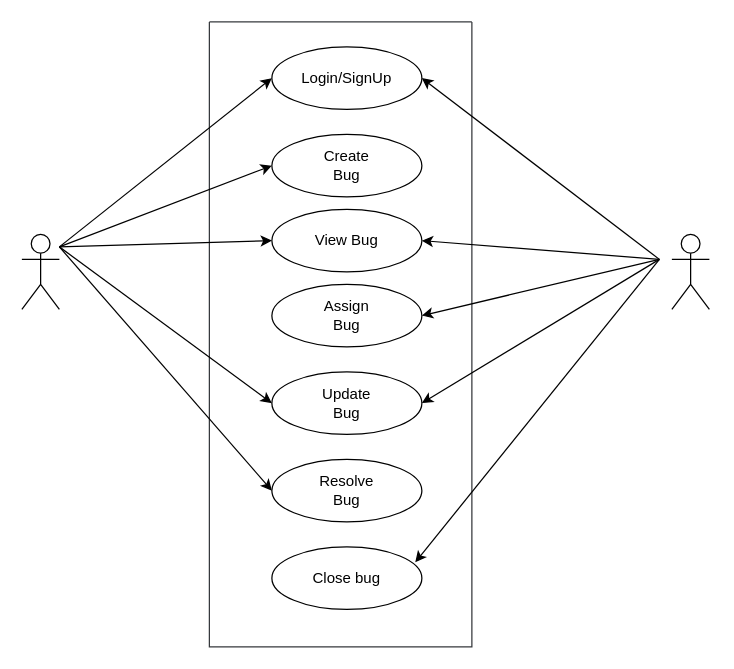
The diagram is 734 pixels wide and 669 high, and some of its shapes have lost their labels. Here are the shapes that lost their labels. From the top down, the centre of each, then its label:
point 40,271: User
point 690,271: Admin
